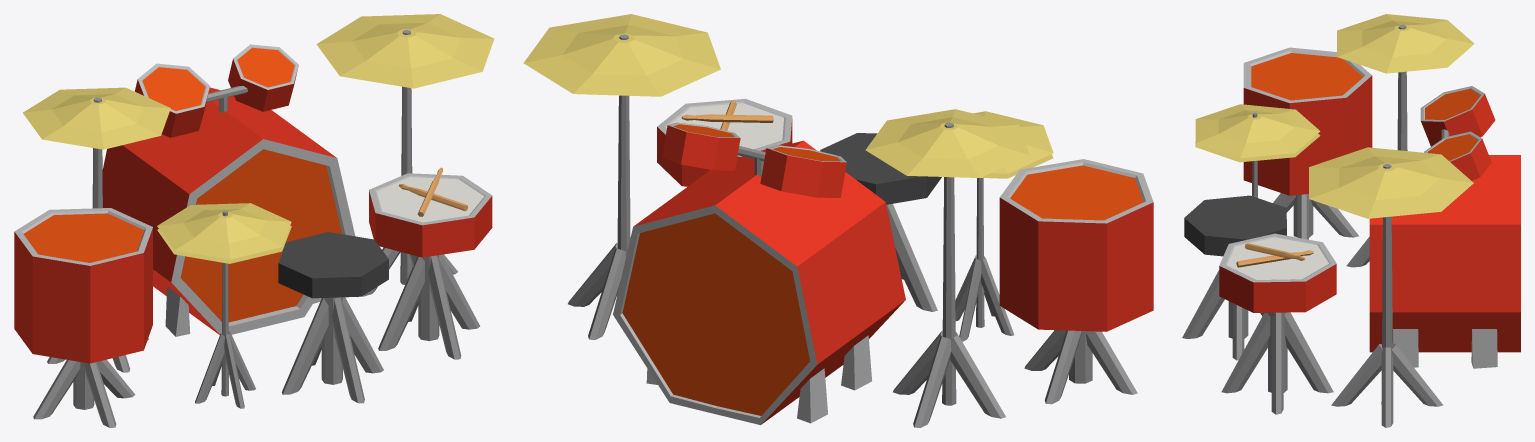
The model's file is Low-Poly Drumset.fbx.
3 renders of one model, left to right at view 1: azimuth 30°, elevation 25°; view 2: azimuth 150°, elevation 25°; view 3: azimuth 270°, elevation 25°, orthographic. The views are drawn at different scales.
Parts seen in each view (by area): view 1: Cylinder, Cylinder.001, Cylinder.012, Cylinder.004, Cylinder.009, Cylinder.017, Cylinder.014, Cylinder.016, Cylinder.008, Cylinder.003, Cylinder.002, Cylinder.007 (+4 smaller); view 2: Cylinder, Cylinder.001, Cylinder.012, Cylinder.009, Cylinder.010, Cylinder.011, Cylinder.004, Cylinder.007, Cylinder.002, Cylinder.017, Cylinder.013, Cylinder.003 (+3 smaller); view 3: Cylinder, Cylinder.001, Cylinder.012, Cylinder.004, Cylinder.009, Cylinder.014, Cylinder.008, Cylinder.011, Cylinder.017, Cylinder.002, Cylinder.016, Cylinder.003 (+5 smaller).
Part boxes in pixels (x1,y1,x2,y2): Cylinder: (102,87,355,336); Cylinder.001: (14,208,152,363); Cylinder.012: (316,14,494,88); Cylinder.004: (369,173,492,257); Cylinder.009: (23,87,170,149); Cylinder.017: (278,232,388,298); Cylinder.014: (157,203,291,259); Cylinder.016: (282,297,383,403); Cylinder.008: (378,254,480,359); Cylinder.003: (228,44,298,111); Cylinder.002: (135,63,209,137); Cylinder.007: (33,359,135,427); Cylinder: (613,140,905,425); Cylinder.001: (999,159,1153,331); Cylinder.012: (523,14,720,96); Cylinder.009: (865,109,1029,177); Cylinder.010: (893,122,1005,427); Cylinder.011: (568,34,630,339); Cylinder.004: (657,98,792,186); Cylinder.007: (1024,330,1137,404); Cylinder.002: (760,145,846,197); Cylinder.017: (820,133,941,204); Cylinder.013: (955,178,1014,341); Cylinder.003: (662,122,740,170); Cylinder: (1369,155,1520,368); Cylinder.001: (1243,47,1372,195); Cylinder.012: (1309,147,1473,218); Cylinder.004: (1219,233,1336,312); Cylinder.009: (1337,14,1474,73); Cylinder.014: (1195,104,1320,158); Cylinder.008: (1221,312,1333,414); Cylinder.011: (1331,164,1443,427); Cylinder.017: (1184,195,1286,256); Cylinder.002: (1420,86,1495,146); Cylinder.016: (1182,270,1263,360); Cylinder.003: (1424,131,1491,180).
Bounding box in the file's own units: 532 × 258 × 327.
